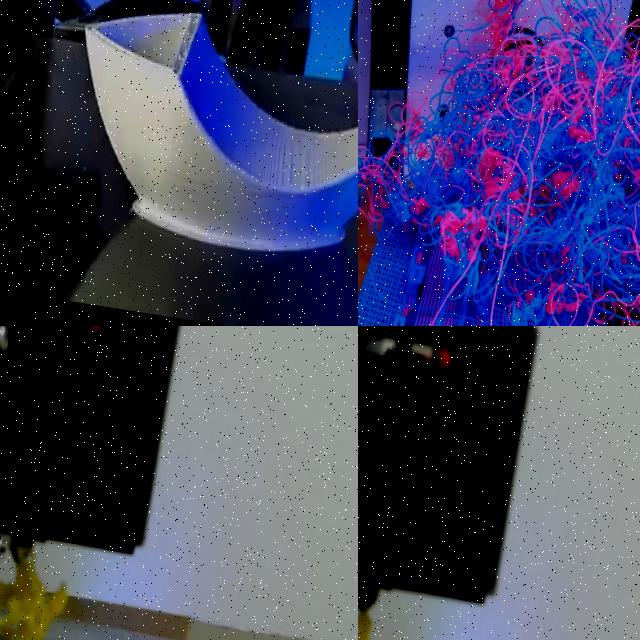spaghetti: (0, 529, 80, 640)
